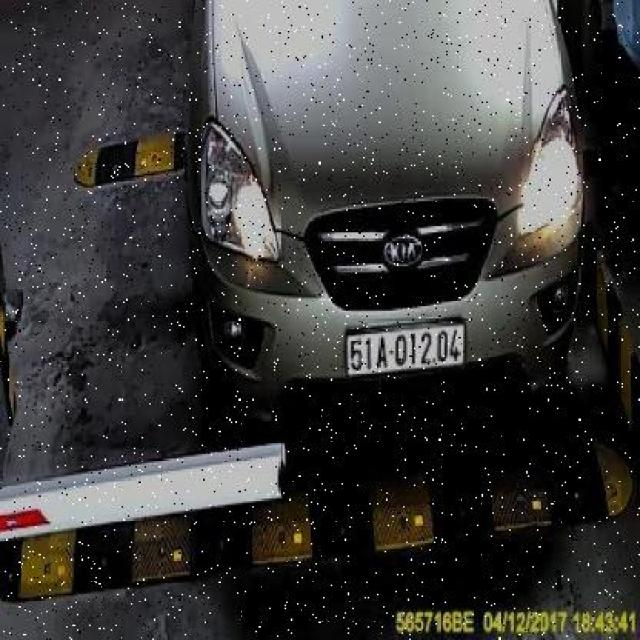number_plate: (346, 318, 468, 384)
